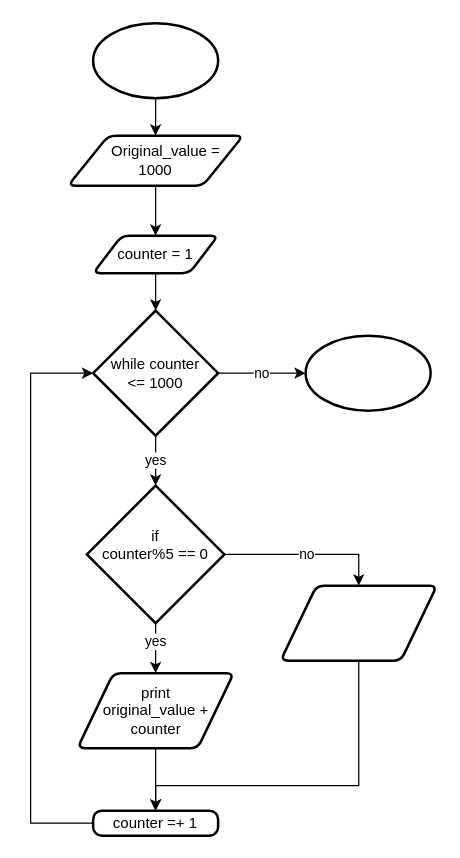
The diagram is 460 pixels wide and 858 high, and some of its shapes have lost their labels. Here are the shapes that lost their labels. From the top down, the centre of each, then its label:
point (155, 60): Start
point (367, 372): stop
point (358, 622): print original_value + counter end=" "
